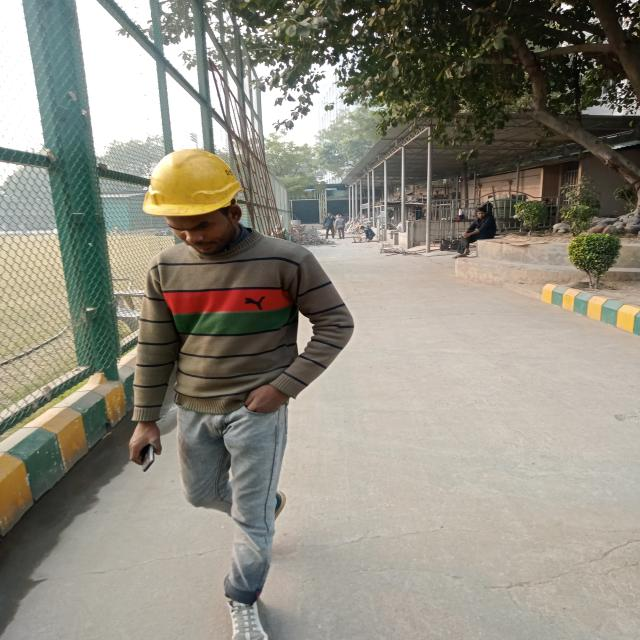no jacket: (128, 146, 351, 640)
